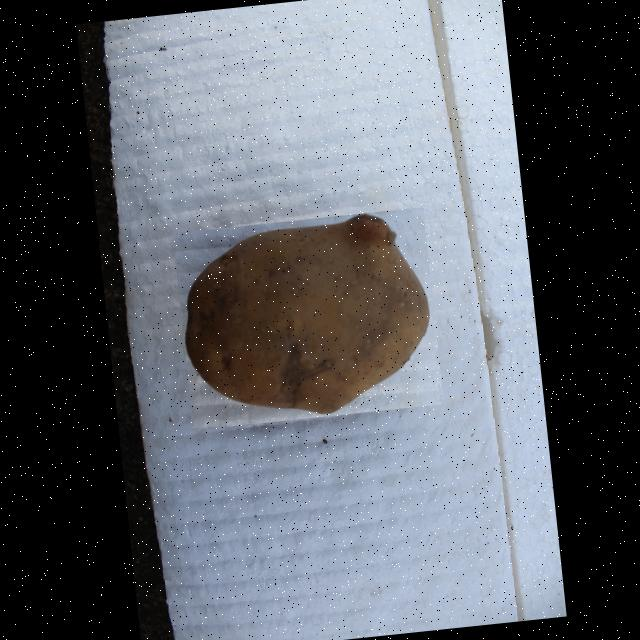Diseased-fungal potato: (172, 207, 442, 430)
